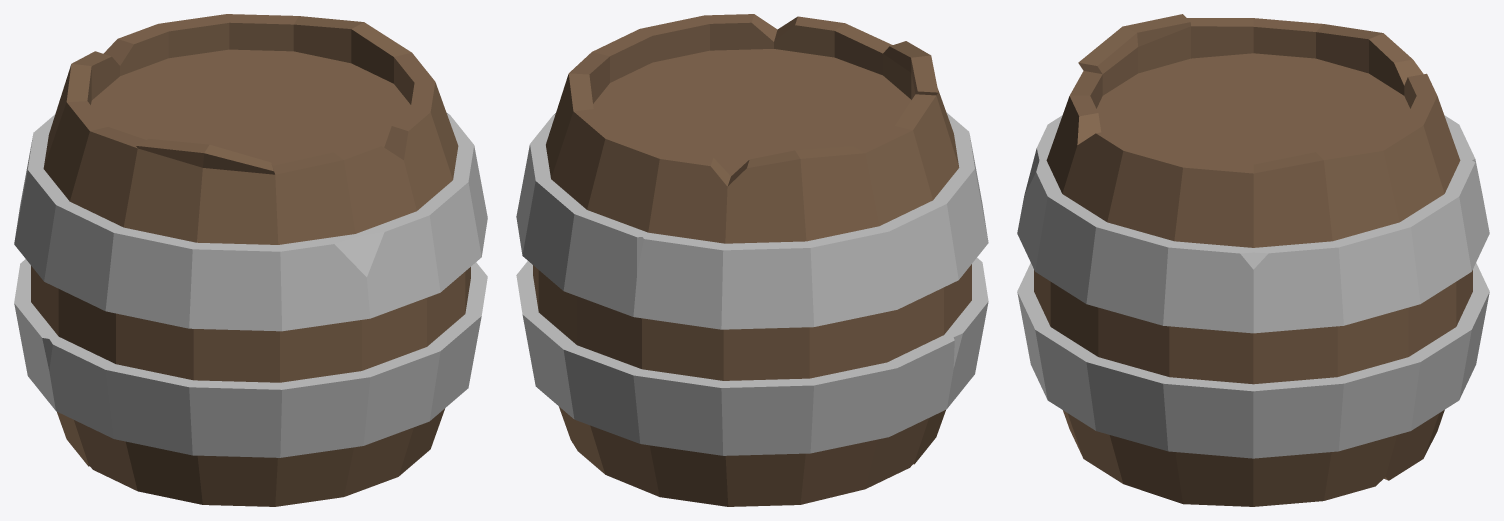
File: Barrel_lowPoly_.fbx
3 renders of one model, left to right at view 1: azimuth 30°, elevation 25°; view 2: azimuth 150°, elevation 25°; view 3: azimuth 270°, elevation 25°, orthographic.
Visible parts, largest first — view 1: 실린더.002; view 2: 실린더.002; view 3: 실린더.002.
Boxes of the visible parts, x1,y1,x2,y2 form: 실린더.002: (14, 14, 487, 506); 실린더.002: (516, 14, 988, 506); 실린더.002: (1017, 14, 1489, 506).
Bounding box in the file's own units: 257 × 211 × 257.
